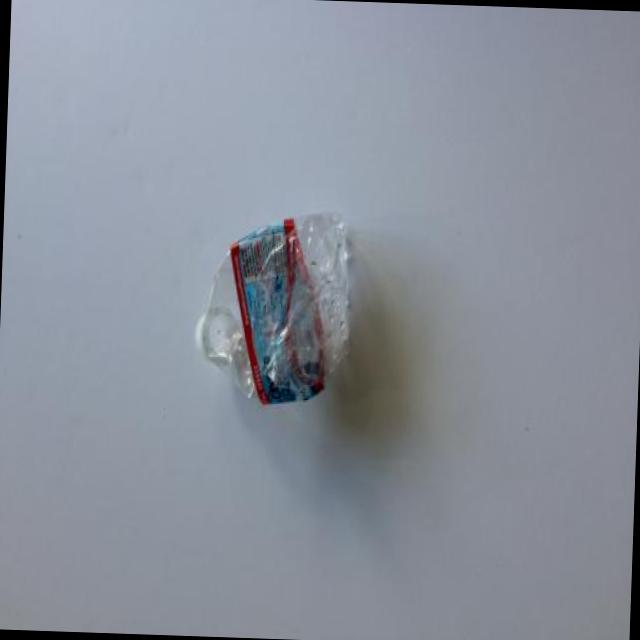Trash: (191, 204, 363, 408)
